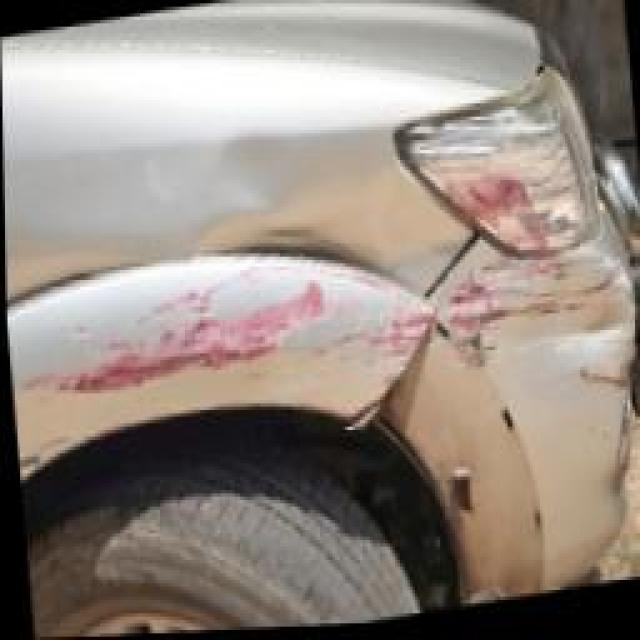Bumper: (422, 197, 640, 610)
Fender: (5, 200, 474, 468)
